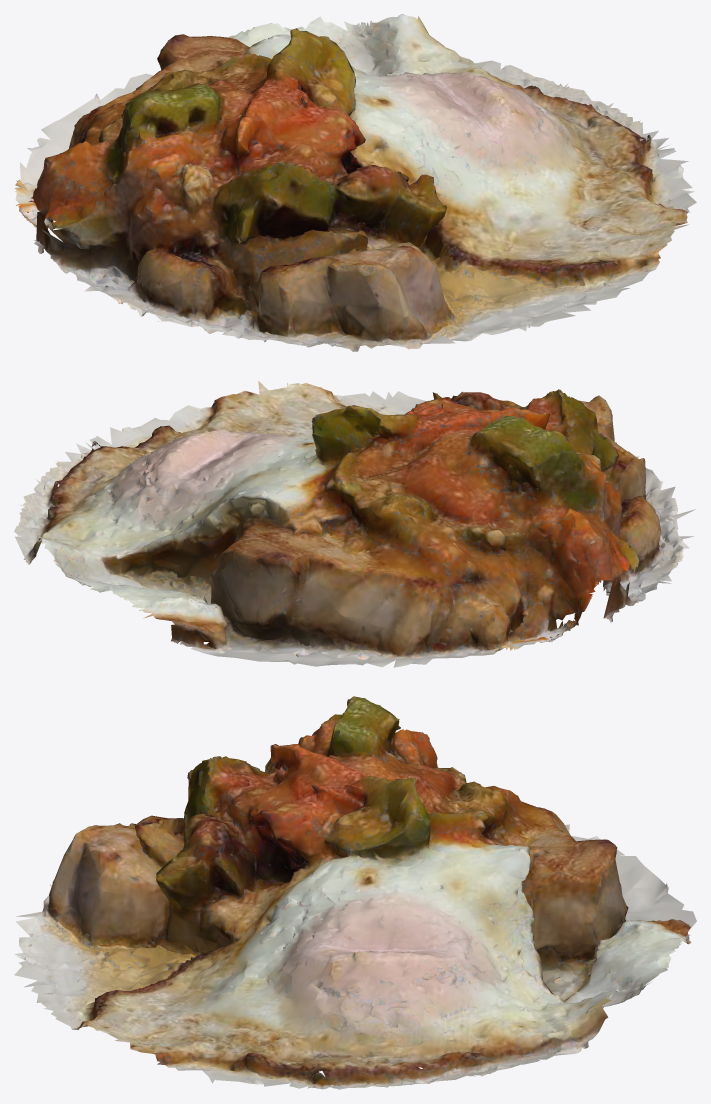
File: bitoque.glb
The picture shows the model from 3 angles, top to bottom: view 1: azimuth 30°, elevation 25°; view 2: azimuth 150°, elevation 25°; view 3: azimuth 270°, elevation 25°; orthographic projection.
Visible parts, largest first — view 1: Object_4; view 2: Object_4; view 3: Object_4.
Part boxes in pixels (<box>): Object_4: <box>14,14,696,351</box>; Object_4: <box>14,381,695,667</box>; Object_4: <box>14,696,696,1089</box>.
Size of the model in its own units: 0.2532 by 0.0728 by 0.2527.
1 material, 1 textured.
